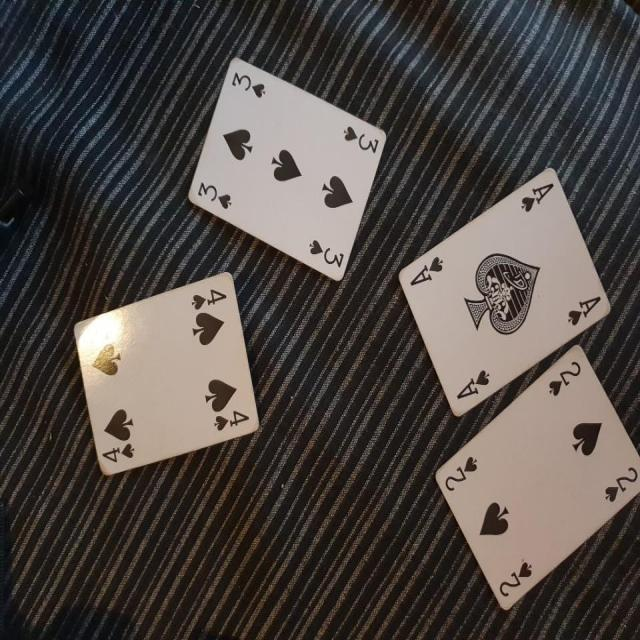2 of spades: (431, 338, 640, 632)
3 of spades: (178, 44, 388, 286)
4 of spades: (62, 255, 266, 486)
ace of spades: (399, 151, 613, 432)
